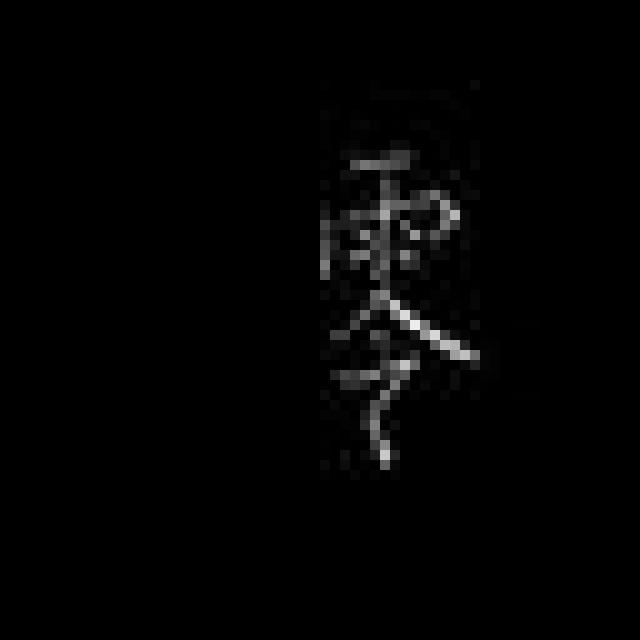0 -zero-: (314, 136, 489, 478)
